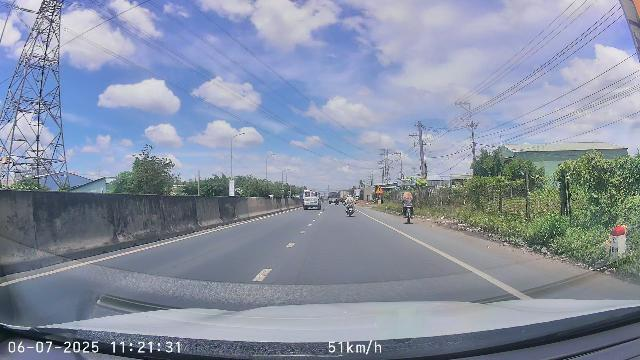207-giao-nhau-voi-duong-khong-uu-tien: (375, 185, 384, 194)
